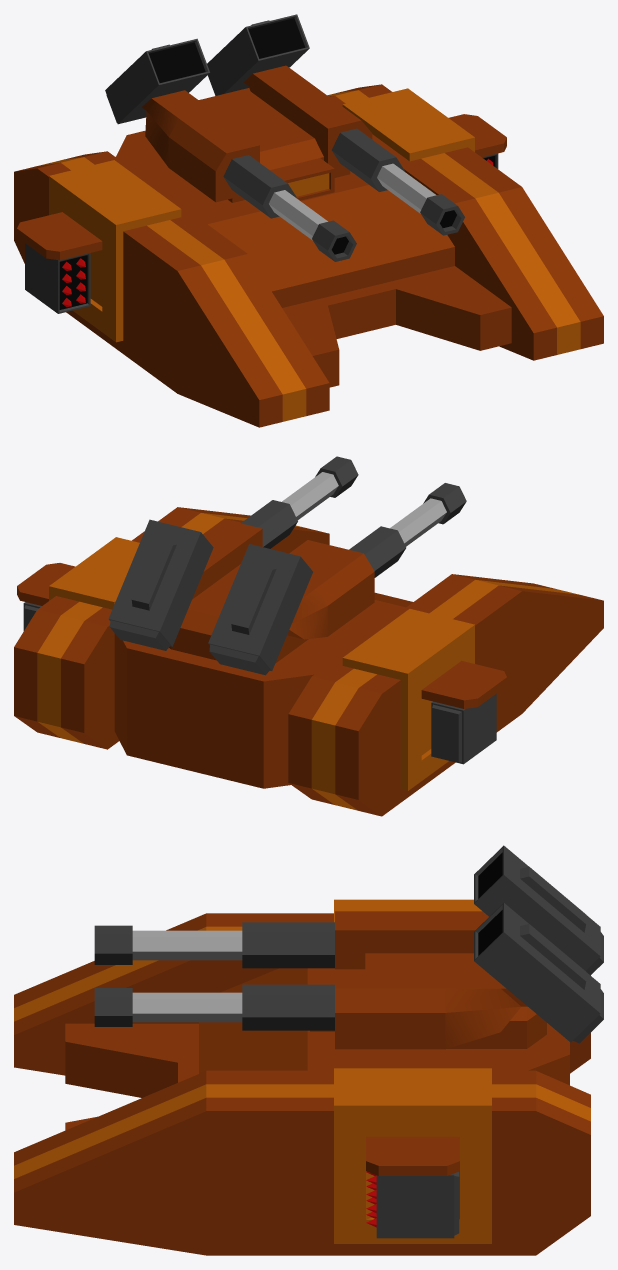
File: boss02.fbx
3 renders of one model, top to bottom at view 1: azimuth 30°, elevation 25°; view 2: azimuth 150°, elevation 25°; view 3: azimuth 270°, elevation 25°, orthographic. The views are drawn at different scales.
Parts seen in each view (by area): view 1: BossSponsonRight, bossBody, BossGuns, bossTrackLeft, BossSponsonRight1, BossArtillery, BossSponsonLeft, BossTurret, BossMissileLauncherRight; view 2: BossSponsonRight, bossBody, BossArtillery, bossTrackLeft, BossGuns, BossSponsonRight1, BossSponsonLeft, BossMissileLauncherRight, BossTurret; view 3: bossTrackLeft, BossGuns, BossSponsonLeft, bossBody, BossArtillery, BossSponsonRight, BossMissileLauncherLeft, BossTurret, BossSponsonRight1.
Part boxes in pixels (x1,y1,x2,y2): BossSponsonRight: [14, 151, 329, 427]; bossBody: [116, 130, 511, 387]; BossGuns: [141, 65, 464, 261]; bossTrackLeft: [327, 84, 603, 360]; BossSponsonRight1: [17, 160, 181, 342]; BossArtillery: [105, 14, 309, 124]; BossSponsonLeft: [342, 88, 506, 161]; BossTurret: [199, 88, 350, 202]; BossMissileLauncherRight: [25, 243, 90, 313]; BossSponsonRight: [288, 574, 603, 816]; bossBody: [114, 540, 412, 788]; BossArtillery: [108, 519, 312, 675]; bossTrackLeft: [14, 507, 329, 749]; BossGuns: [192, 456, 466, 639]; BossSponsonRight1: [342, 609, 506, 790]; BossSponsonLeft: [17, 537, 139, 609]; BossMissileLauncherRight: [431, 693, 496, 764]; BossTurret: [169, 559, 308, 663]; bossTrackLeft: [14, 1070, 590, 1255]; BossGuns: [94, 911, 527, 1049]; BossSponsonLeft: [334, 1068, 491, 1243]; bossBody: [65, 968, 569, 1130]; BossArtillery: [474, 845, 603, 1043]; BossSponsonRight: [14, 913, 590, 1075]; BossMissileLauncherLeft: [376, 1172, 459, 1238]; BossTurret: [310, 953, 546, 1048]; BossSponsonRight1: [334, 899, 481, 922].
Size of the model in its own units: 13.55 by 6.38 by 12.77.
